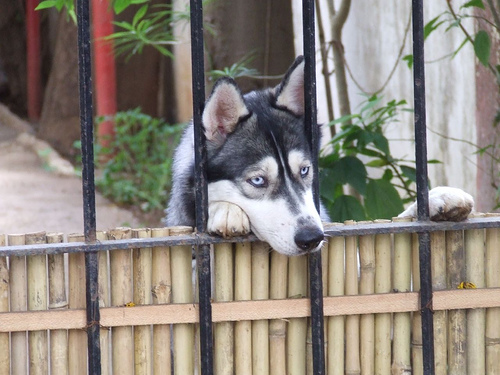dog: (162, 52, 476, 258)
